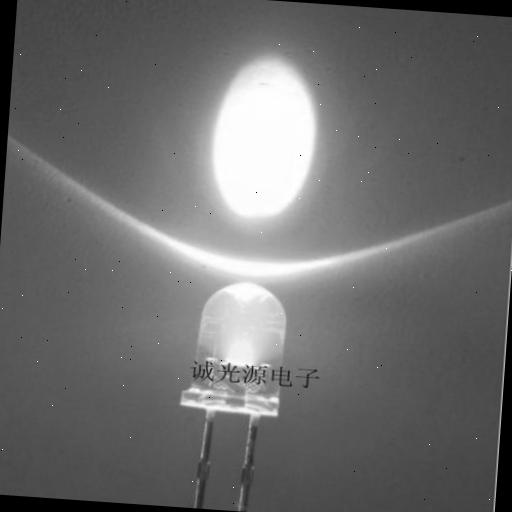LED: (154, 240, 394, 472)
